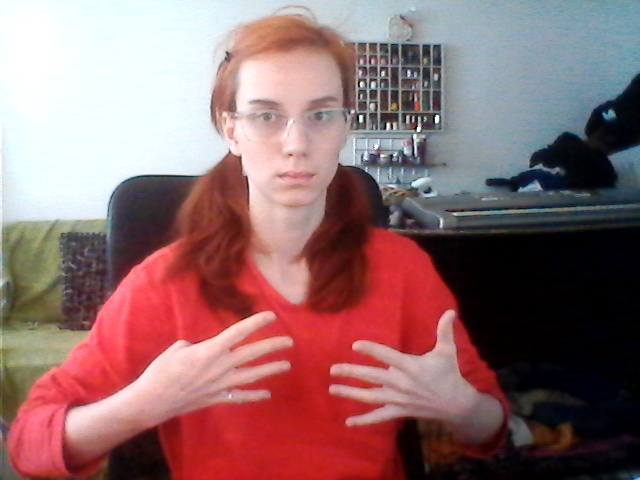devat: (159, 302, 468, 433)
